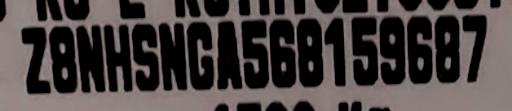letter: (15, 25, 51, 92), (406, 15, 438, 84), (432, 15, 464, 84), (294, 19, 326, 86), (104, 22, 134, 93), (239, 20, 271, 85), (348, 16, 378, 85), (158, 20, 188, 89), (186, 20, 216, 89), (460, 14, 490, 81), (76, 23, 106, 90), (378, 14, 406, 85), (269, 18, 297, 89), (132, 23, 160, 92), (50, 24, 78, 91), (214, 20, 240, 87), (324, 17, 348, 88)
